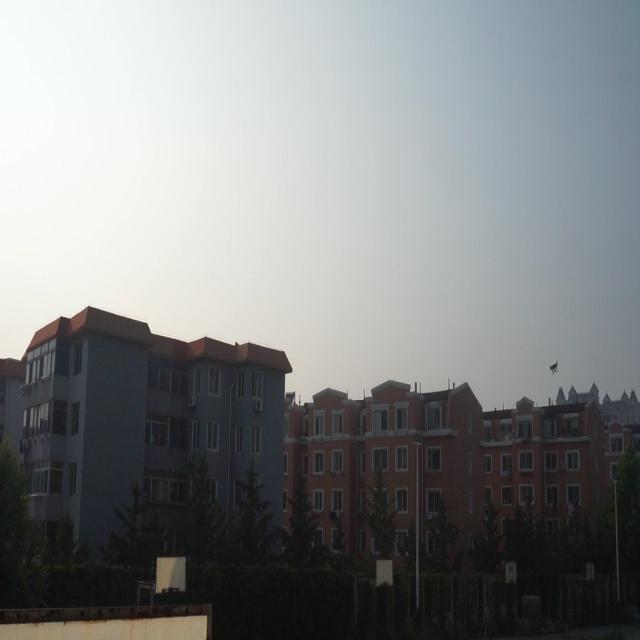drone: (546, 357, 562, 375)
